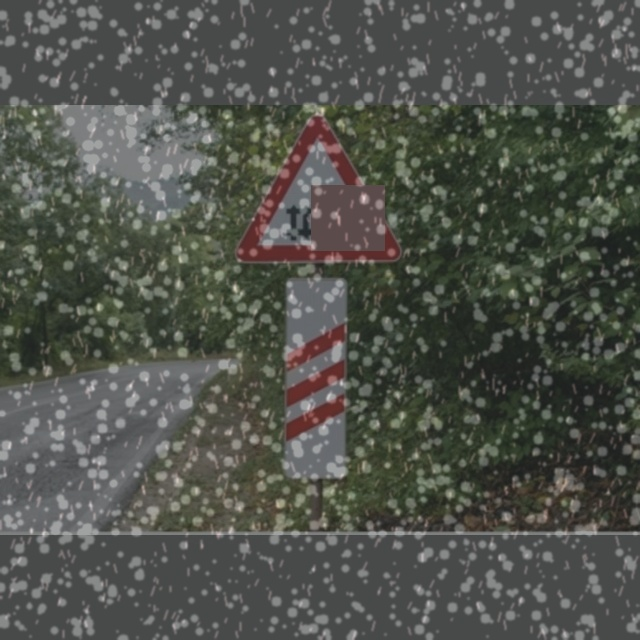Guarded_Level_Crossing: (237, 116, 404, 262)
